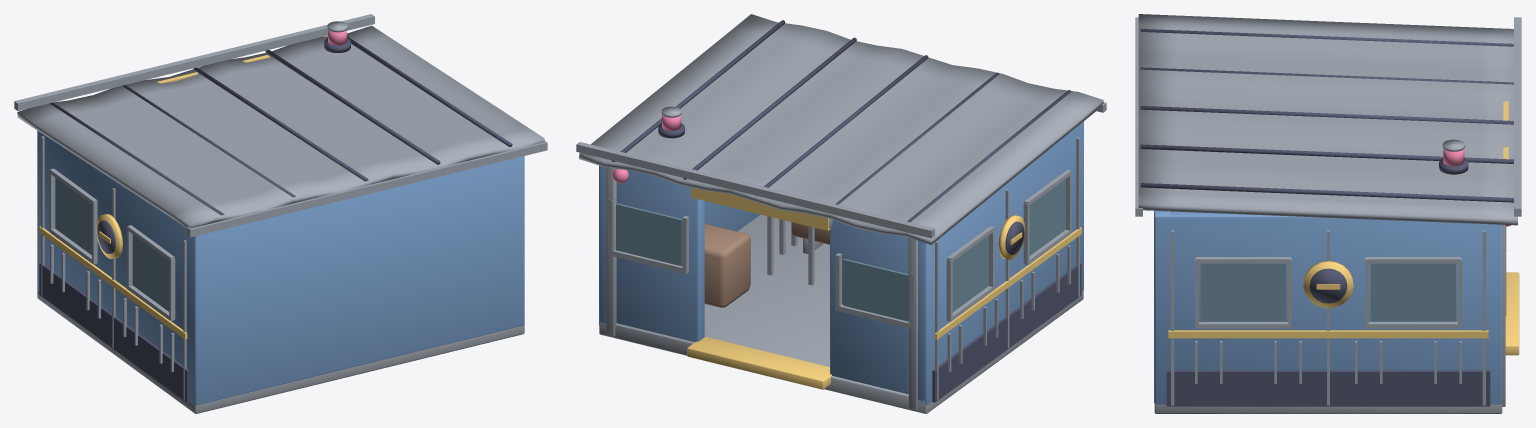
File: FestivalSecurity.fbx
3 renders of one model, left to right at view 1: azimuth 30°, elevation 25°; view 2: azimuth 150°, elevation 25°; view 3: azimuth 270°, elevation 25°, orthographic. The views are drawn at different scales.
Parts seen in each view (by area): view 1: FestivalSecurity Metal__Metal, FestivalSecurity Blue__Blue, FestivalSecurity Dark__Dark, FestivalSecurity AutoGlass__AutoGlass, FestivalSecurity Gold__Gold; view 2: FestivalSecurity Metal__Metal, FestivalSecurity Blue__Blue, FestivalSecurity AutoGlass__AutoGlass, FestivalSecurity Dark__Dark, FestivalSecurity Gold__Gold, FestivalSecurity Wood__Wood; view 3: FestivalSecurity Metal__Metal, FestivalSecurity Blue__Blue, FestivalSecurity Dark__Dark, FestivalSecurity AutoGlass__AutoGlass, FestivalSecurity Gold__Gold.
Part boxes in pixels (bbox=[...]): FestivalSecurity Metal__Metal: bbox=[14, 14, 547, 413]; FestivalSecurity Blue__Blue: bbox=[37, 130, 524, 405]; FestivalSecurity Dark__Dark: bbox=[39, 36, 512, 402]; FestivalSecurity AutoGlass__AutoGlass: bbox=[55, 178, 169, 311]; FestivalSecurity Gold__Gold: bbox=[39, 55, 269, 339]; FestivalSecurity Metal__Metal: bbox=[576, 14, 1106, 413]; FestivalSecurity Blue__Blue: bbox=[599, 121, 1083, 405]; FestivalSecurity AutoGlass__AutoGlass: bbox=[616, 179, 1065, 321]; FestivalSecurity Dark__Dark: bbox=[611, 20, 1081, 402]; FestivalSecurity Gold__Gold: bbox=[687, 188, 1081, 389]; FestivalSecurity Wood__Wood: bbox=[704, 222, 829, 307]; FestivalSecurity Metal__Metal: bbox=[1135, 14, 1521, 413]; FestivalSecurity Blue__Blue: bbox=[1154, 211, 1502, 404]; FestivalSecurity Dark__Dark: bbox=[1140, 29, 1513, 406]; FestivalSecurity AutoGlass__AutoGlass: bbox=[1200, 263, 1456, 321]; FestivalSecurity Gold__Gold: bbox=[1168, 101, 1519, 355].
Bounding box in the file's own units: 650 × 385 × 555.
